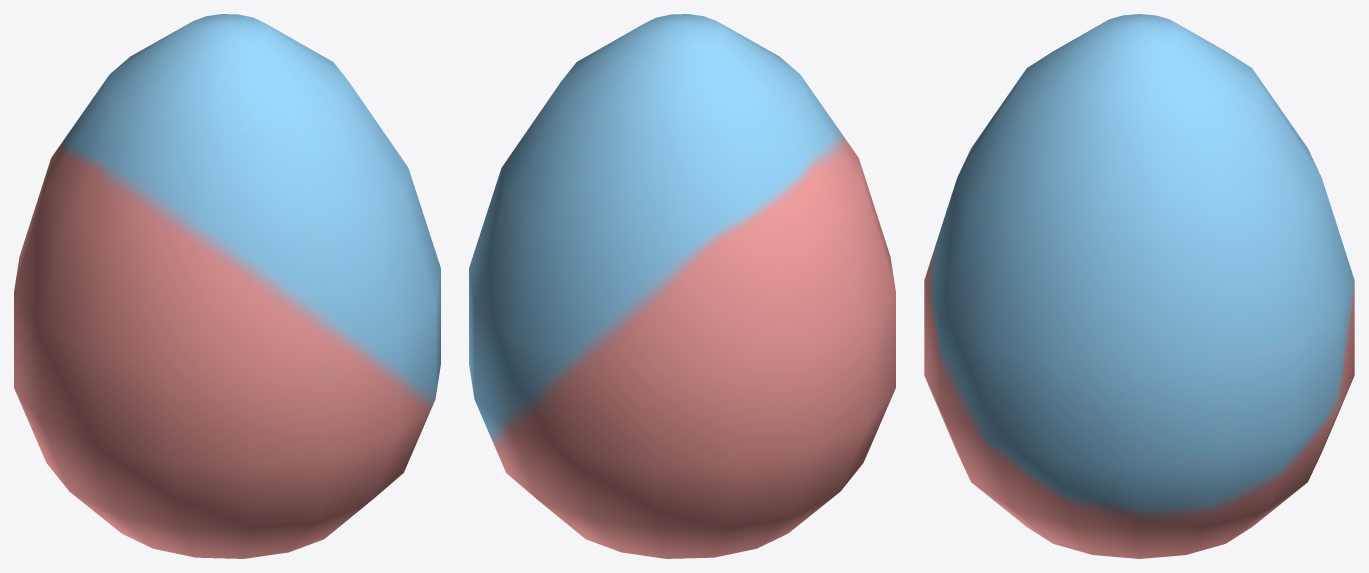
3 renders of one model, left to right at view 1: azimuth 30°, elevation 25°; view 2: azimuth 150°, elevation 25°; view 3: azimuth 270°, elevation 25°, orthographic.
Visible parts, largest first — view 1: Egg-LowPoly-TwoTone_0; view 2: Egg-LowPoly-TwoTone_0; view 3: Egg-LowPoly-TwoTone_0.
Boxes of the visible parts, box(x1,y1,x2,y2) form: Egg-LowPoly-TwoTone_0: box(14, 14, 440, 558); Egg-LowPoly-TwoTone_0: box(469, 14, 895, 558); Egg-LowPoly-TwoTone_0: box(924, 14, 1354, 558).
Size of the model in its own units: 1.96 by 2.6 by 1.96.
Materials: 1 (1 with a texture image).
